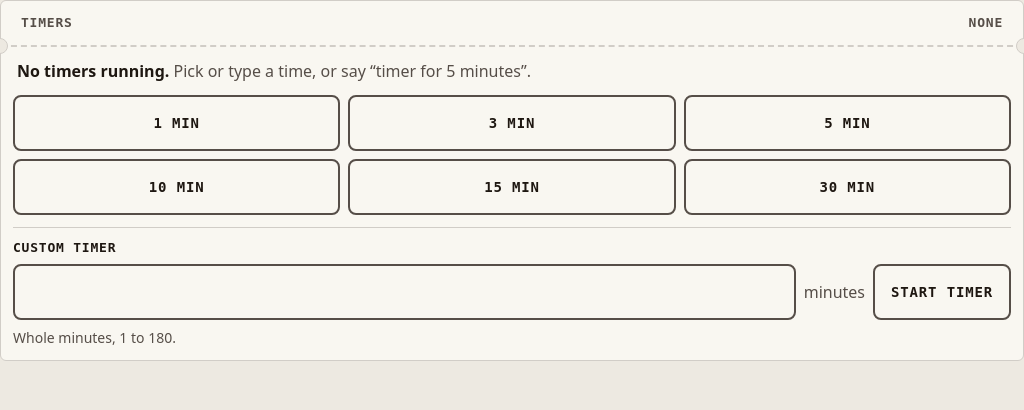
Test case: TimersPanel custom duration › rejects 0 with the accepted range
In the field labelled "Custom timer": (404, 292) x1=13 y1=264 x2=796 y2=320, type "0"
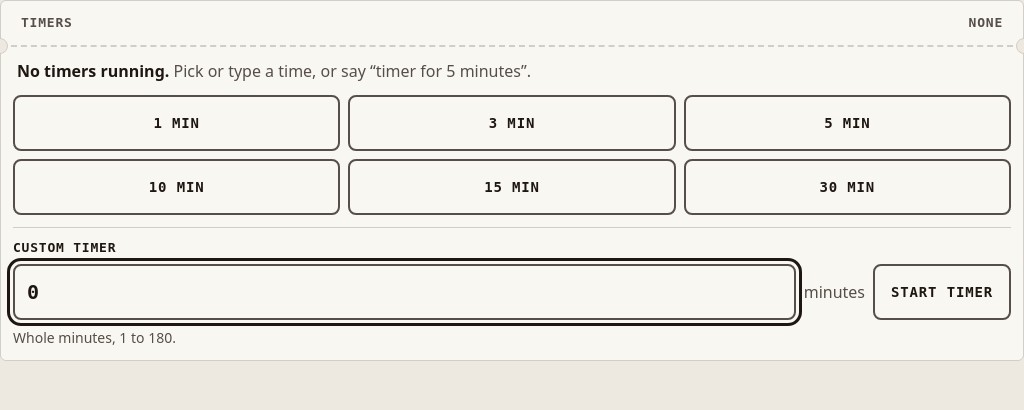
Click the button "Start timer": (942, 292) x1=873 y1=264 x2=1011 y2=320
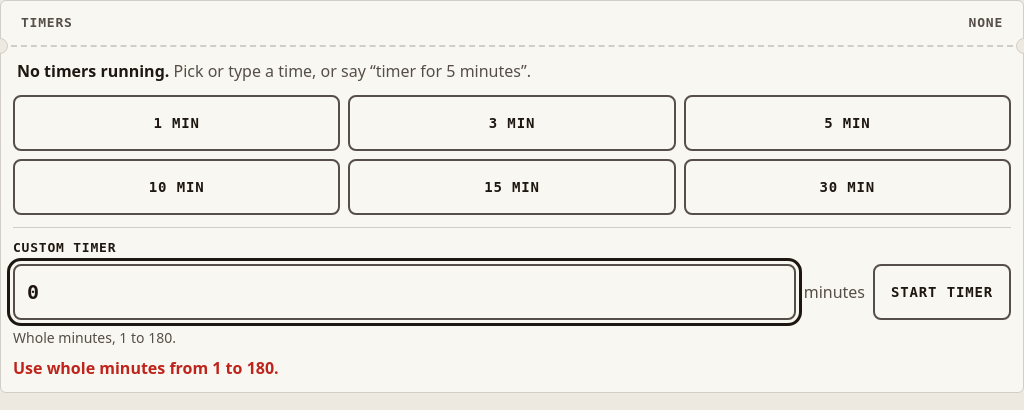
Expected: the message shows "whole minutes", x1=13 y1=357 x2=279 y2=379
